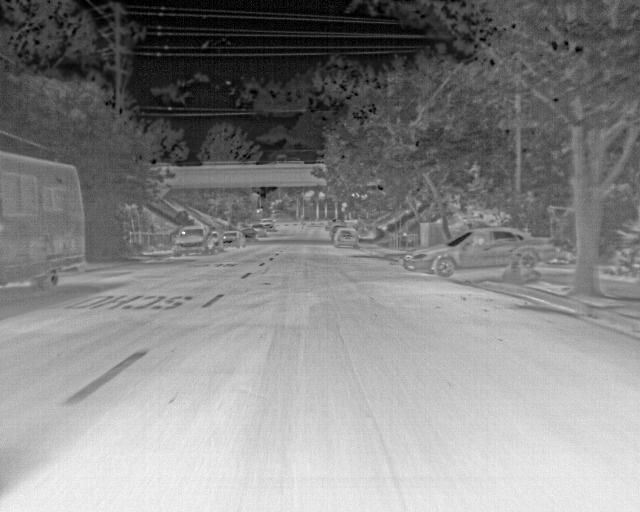car: (402, 224, 555, 279), (174, 225, 211, 256), (333, 226, 361, 248), (221, 230, 244, 248), (328, 222, 347, 240), (258, 218, 274, 234), (210, 232, 223, 251)
